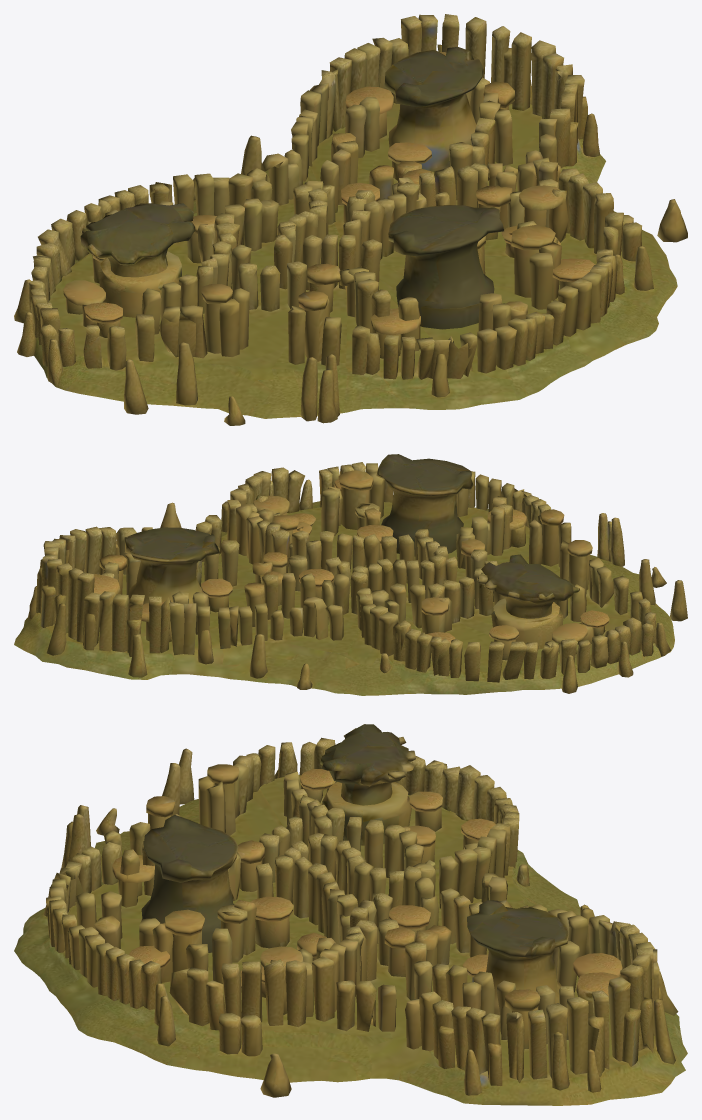
The model's file is site_maze.glb.
3 views of the same model, one above another, from view 1: azimuth 30°, elevation 25°; view 2: azimuth 150°, elevation 25°; view 3: azimuth 270°, elevation 25° (orthographic). The views are drawn at different scales.
Bounding box in the file's own units: 1 × 0.1725 × 0.8927.
Materials: 1 (1 with a texture image).
